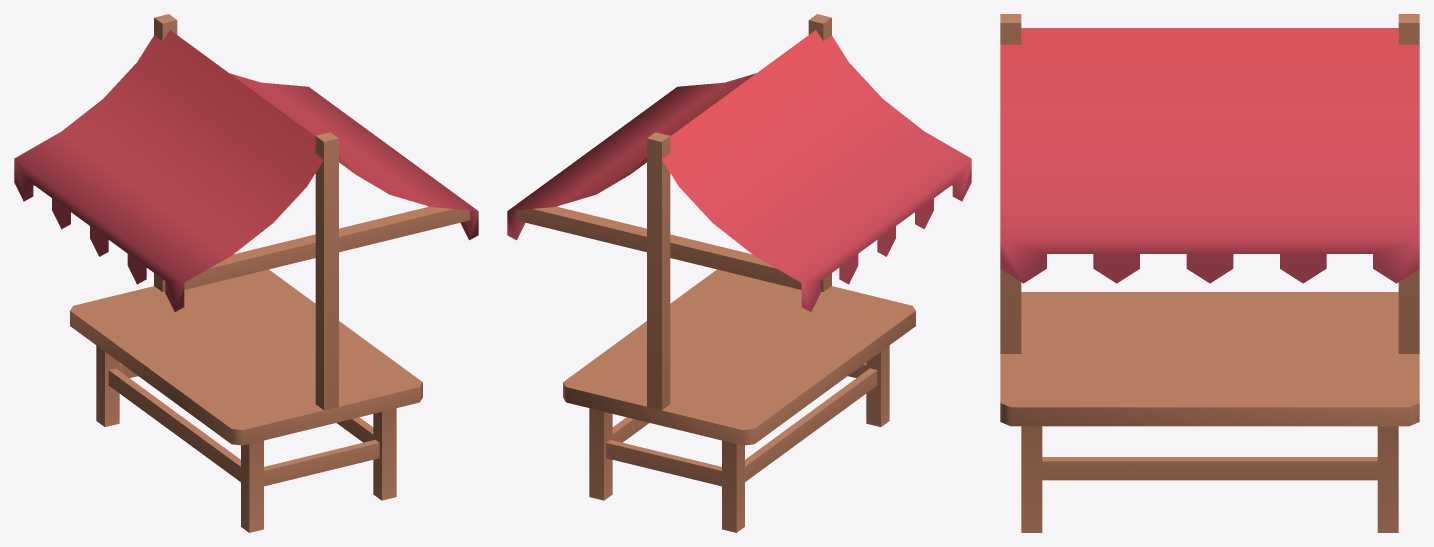
File: stall-red.glb
The picture shows the model from 3 angles, left to right: view 1: azimuth 30°, elevation 25°; view 2: azimuth 150°, elevation 25°; view 3: azimuth 270°, elevation 25°; orthographic projection. The views are drawn at different scales.
Parts seen in each view (by area): view 1: stall-red; view 2: stall-red; view 3: stall-red.
Part boxes in pixels (x1=…): stall-red: x1=14, y1=14, x2=478, y2=532; stall-red: x1=507, y1=14, x2=971, y2=532; stall-red: x1=1000, y1=14, x2=1419, y2=532.
Size of the model in its own units: 2 by 2.47 by 2.
Materials: 1 (1 with a texture image).
